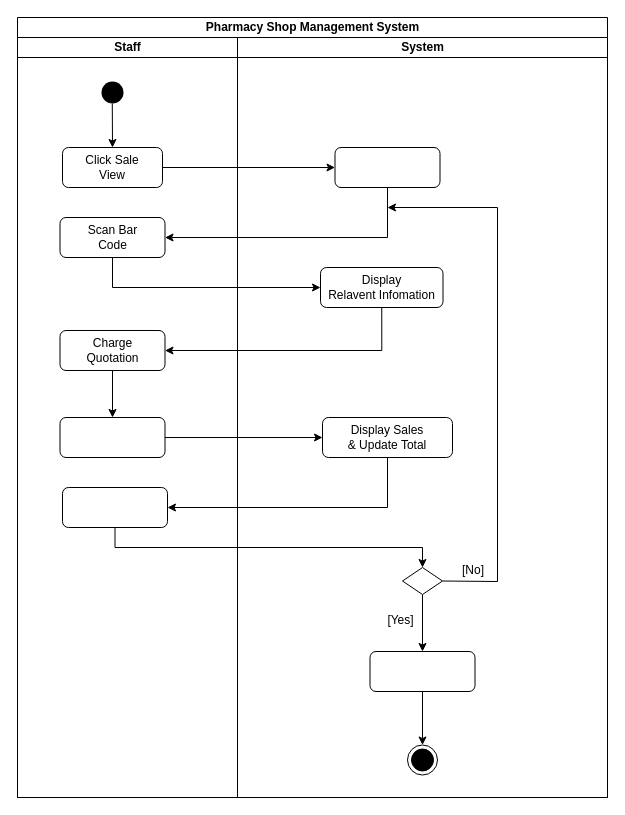
Image size: 625x815. Some labels were removed from this diagram. Here are the shapes that lost their labels. From the top down, the centre of each, then its label:
At (387,167): "Display Sale View".
At (112,437): "Click Add Button".
At (115,507): "Click Pay Button".
At (422,671): "Genarate Invoice".
